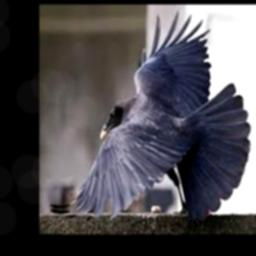Crow: (58, 14, 250, 223)
